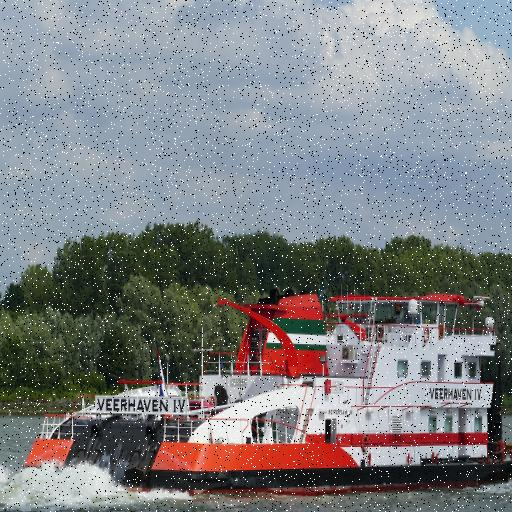tugboat: (20, 275, 512, 512)
